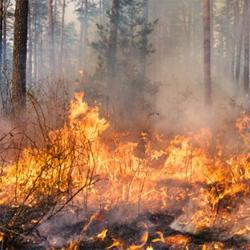fire: (112, 144, 222, 201), (18, 144, 107, 189), (65, 93, 103, 139)
